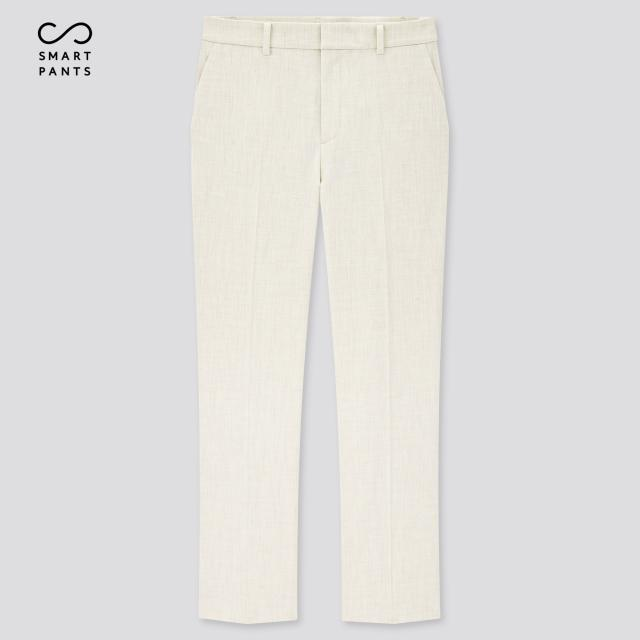long-pants: (191, 18, 451, 632)
